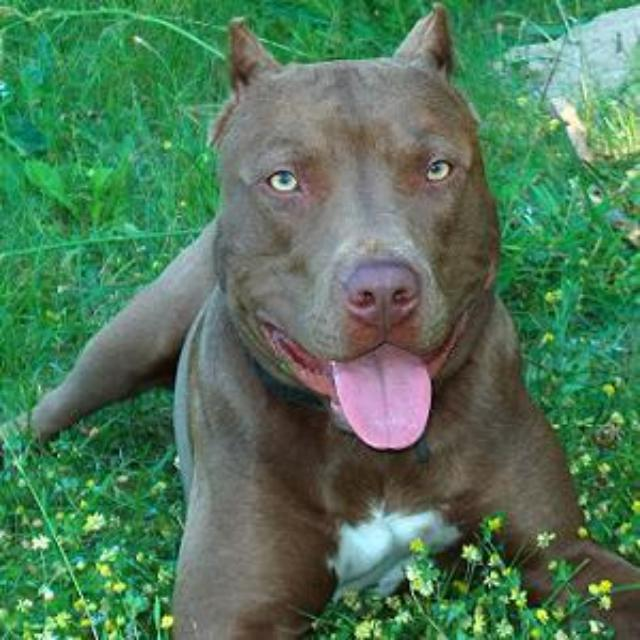amstaff: (2, 4, 639, 639)
